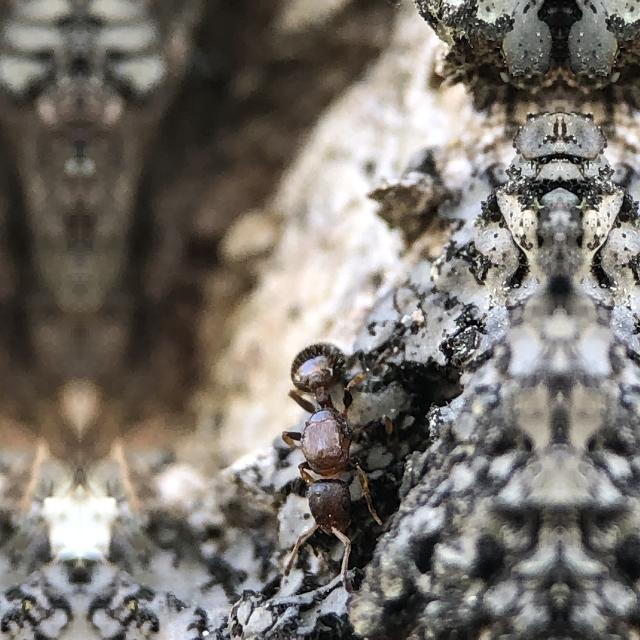Temnothorax: (268, 320, 384, 588)
